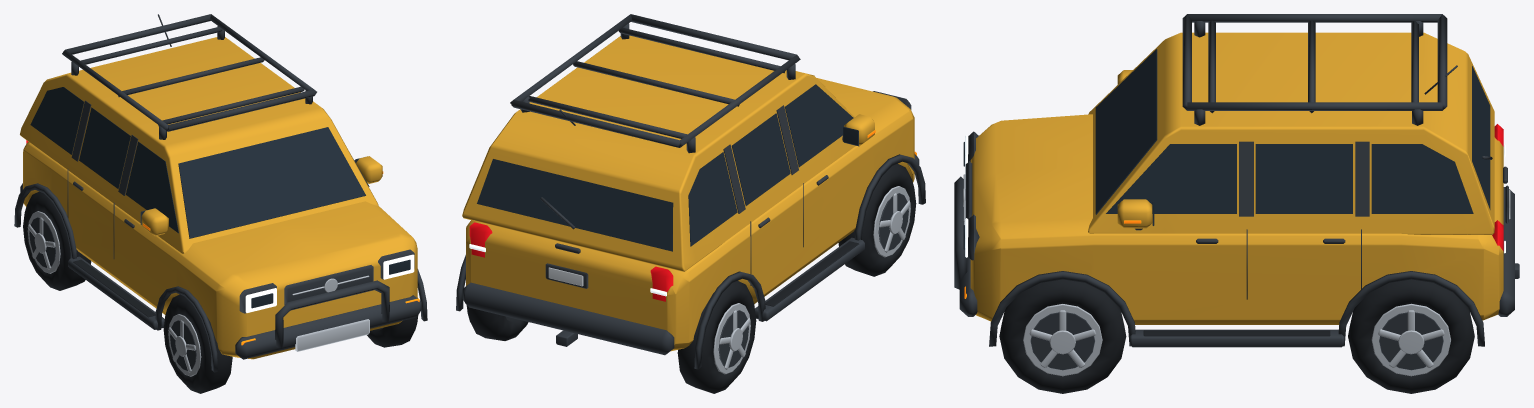
The model's file is NPC_FamilySUV_LOD1.fbx.
3 renders of one model, left to right at view 1: azimuth 30°, elevation 25°; view 2: azimuth 150°, elevation 25°; view 3: azimuth 270°, elevation 25°, orthographic. The views are drawn at different scales.
Visible parts, largest first — view 1: NPC_FamilySUV_LOD1; view 2: NPC_FamilySUV_LOD1; view 3: NPC_FamilySUV_LOD1.
Boxes of the visible parts, x1=… form: NPC_FamilySUV_LOD1: x1=14, y1=14, x2=427, y2=393; NPC_FamilySUV_LOD1: x1=456, y1=14, x2=925, y2=393; NPC_FamilySUV_LOD1: x1=954, y1=14, x2=1519, y2=393.
Bounding box in the file's own units: 267 × 250 × 451.
